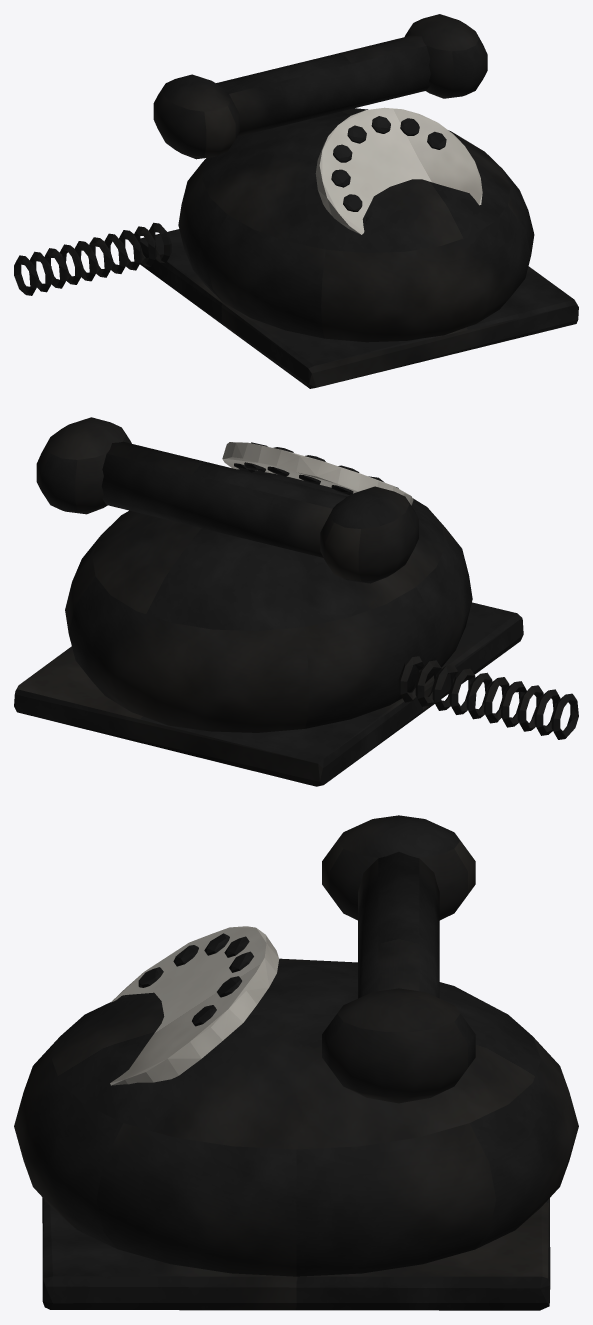
Rendered from F20_rotary_telephone.glb.
The picture shows the model from 3 angles, top to bottom: view 1: azimuth 30°, elevation 25°; view 2: azimuth 150°, elevation 25°; view 3: azimuth 270°, elevation 25°; orthographic projection. The views are drawn at different scales.
Visible parts, largest first — view 1: F20_rotary_telephone; view 2: F20_rotary_telephone; view 3: F20_rotary_telephone.
Boxes of the visible parts, x1,y1,x2,y2 form: F20_rotary_telephone: (14, 14, 578, 388); F20_rotary_telephone: (14, 417, 578, 786); F20_rotary_telephone: (14, 815, 578, 1310).
Size of the model in its own units: 0.3 by 0.1551 by 0.2252.
2 materials, 2 textured.
